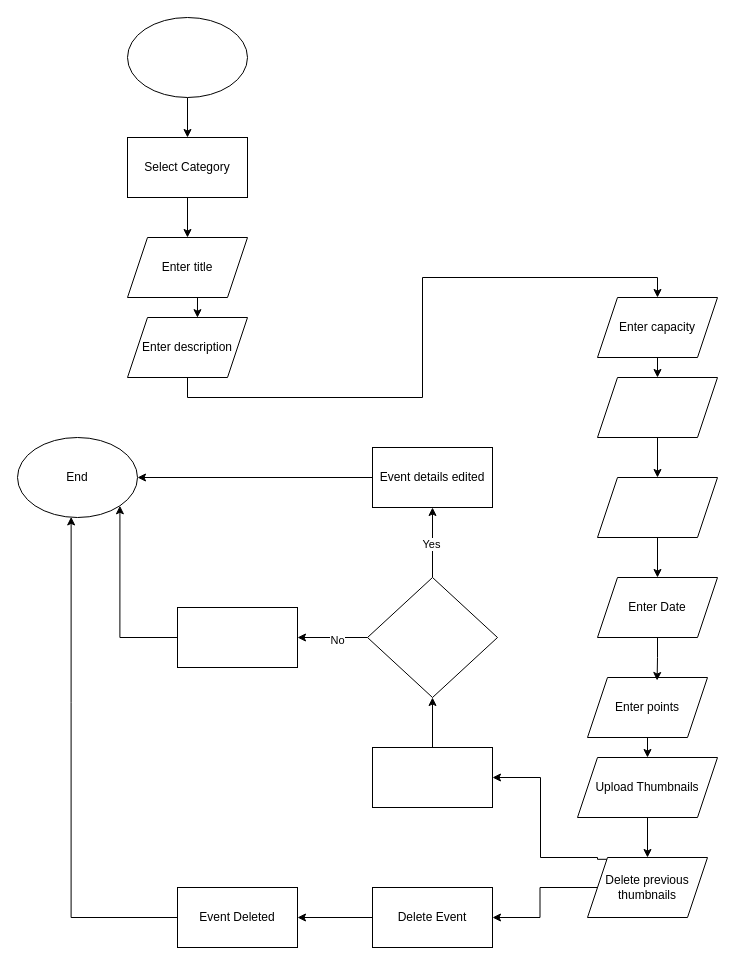
The diagram is 735 pixels wide and 965 high, and some of its shapes have lost their labels. The box of each missing label's shape, as (x1, y1, x2, y2) in pixels:
Any Changes Made: (366, 576, 498, 698)
Enter Location: (596, 376, 718, 438)
Enter Time: (596, 476, 718, 538)
Event details remain: (176, 606, 298, 668)
Save Changes: (372, 746, 492, 808)
Start: (126, 16, 248, 98)
